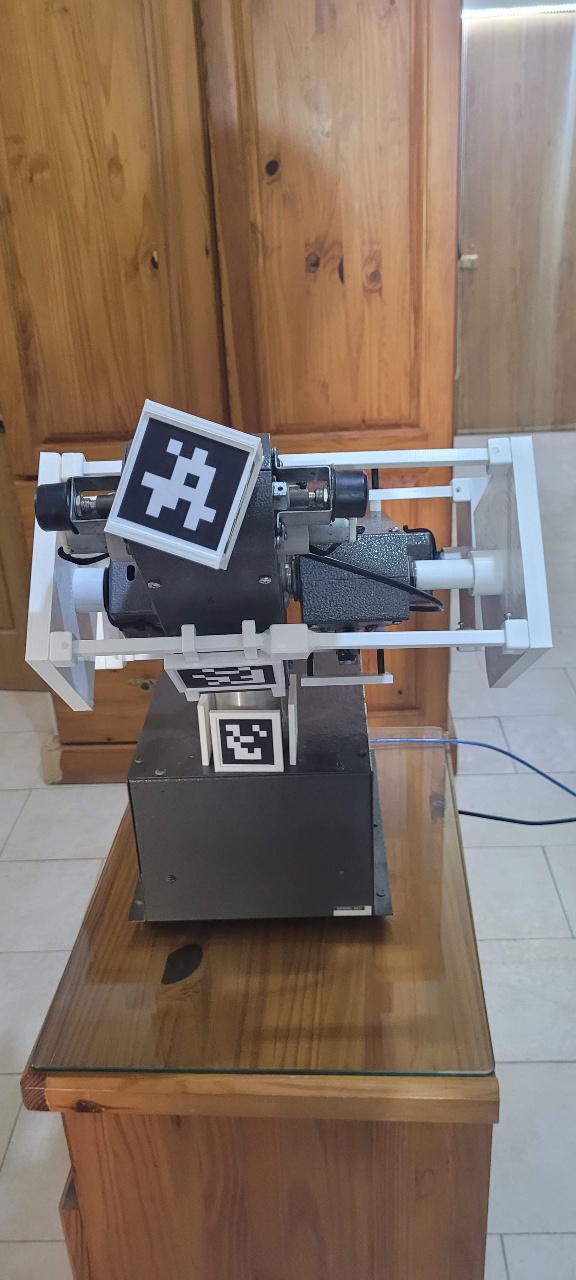Robot: (15, 173, 524, 1280)
